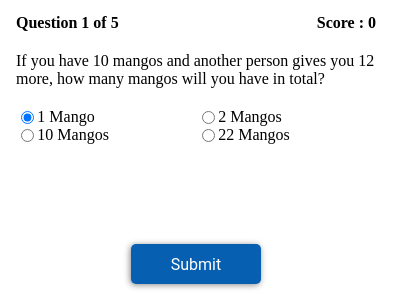
Test case: Clicking correct answer renders appropriate result text
The image size is (393, 306).
Click the radio button with test id "correct-answer" at x=209, y=136, box [202,129,215,142]
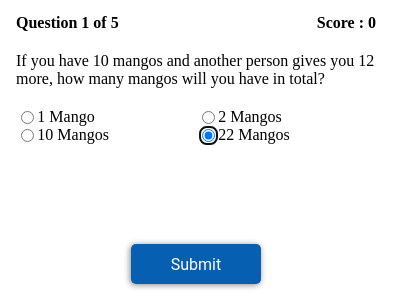
Click the button "Submit" at x=196, y=264, box [131,244,261,284]
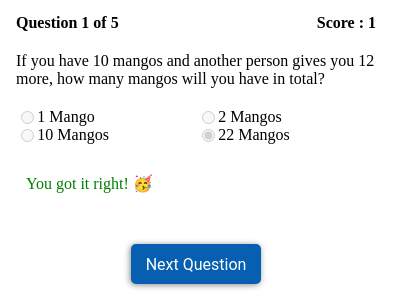
Result: the element with test id "results-text" reads "You got it right! 🥳" at [26,175,153,192]
